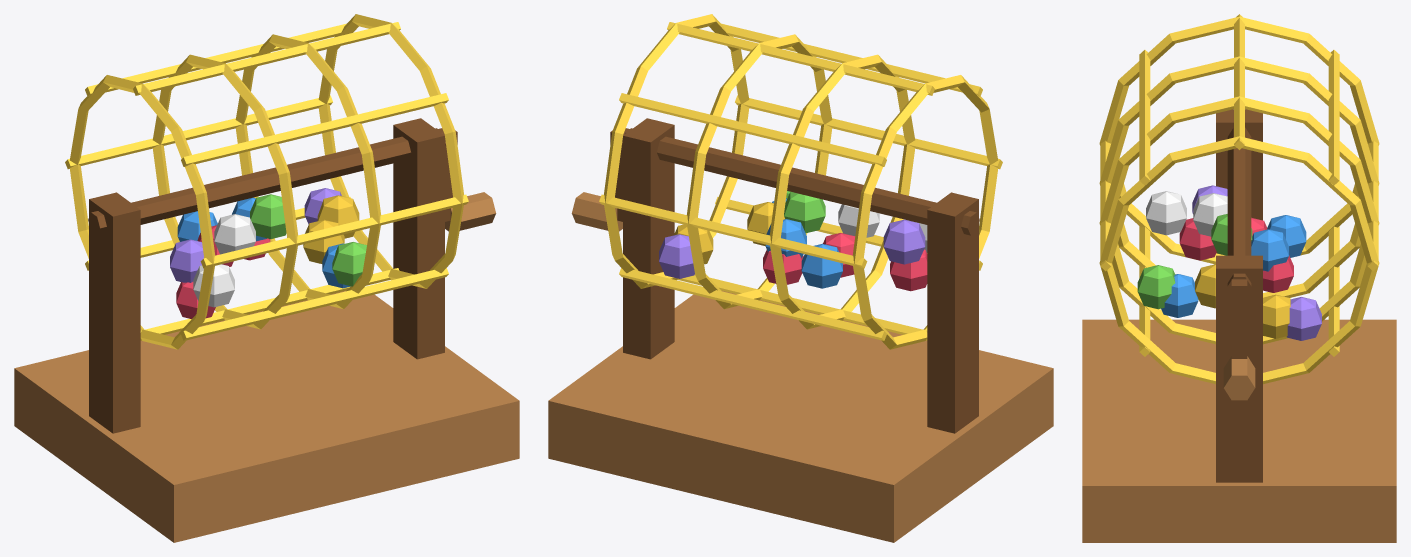
Rendered from bingo_cage.glb.
The picture shows the model from 3 angles, left to right: view 1: azimuth 30°, elevation 25°; view 2: azimuth 150°, elevation 25°; view 3: azimuth 270°, elevation 25°; orthographic projection.
Parts seen in each view (by area): view 1: stand_wood, cage_cage_wire, stand_wood_dark, balls, cage_wood_dark, crank_wood; view 2: stand_wood, cage_cage_wire, stand_wood_dark, balls, cage_wood_dark, crank_wood; view 3: stand_wood, cage_cage_wire, balls, stand_wood_dark, cage_wood_dark, crank_wood_dark, crank_wood.
Boxes of the visible parts, bbox=[...] form: stand_wood: bbox=[14, 290, 519, 542]; cage_cage_wire: bbox=[65, 14, 468, 349]; stand_wood_dark: bbox=[89, 118, 444, 433]; balls: bbox=[170, 188, 373, 318]; cage_wood_dark: bbox=[88, 128, 445, 235]; crank_wood: bbox=[445, 192, 496, 231]; stand_wood: bbox=[548, 290, 1053, 542]; cage_cage_wire: bbox=[599, 14, 1002, 349]; stand_wood_dark: bbox=[623, 118, 978, 433]; balls: bbox=[659, 191, 927, 291]; cage_wood_dark: bbox=[622, 128, 979, 235]; crank_wood: bbox=[571, 192, 622, 231]; stand_wood: bbox=[1082, 319, 1396, 542]; cage_cage_wire: bbox=[1099, 14, 1379, 384]; balls: bbox=[1137, 185, 1321, 340]; stand_wood_dark: bbox=[1216, 109, 1262, 482]; cage_wood_dark: bbox=[1227, 127, 1251, 291]; crank_wood_dark: bbox=[1231, 279, 1247, 358]; crank_wood: bbox=[1223, 356, 1255, 400].
Bounding box in the file's own units: 0.57 × 0.538 × 0.4.
